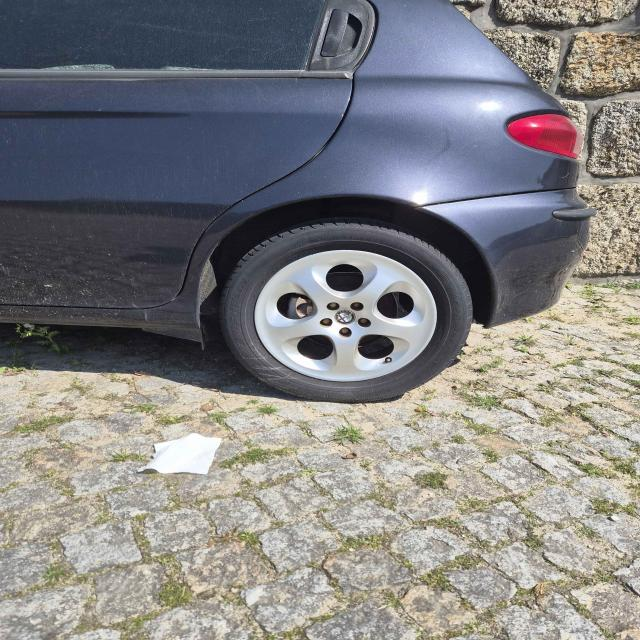jante: (254, 248, 438, 383)
parafuso: (328, 301, 338, 309), (321, 317, 331, 325), (341, 327, 350, 334), (359, 318, 369, 324), (353, 302, 360, 308)
roda: (217, 216, 475, 404)
